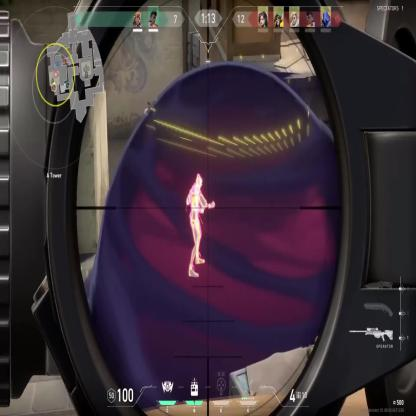enemy: (184, 172, 214, 274)
enemy_head: (196, 174, 203, 190)
